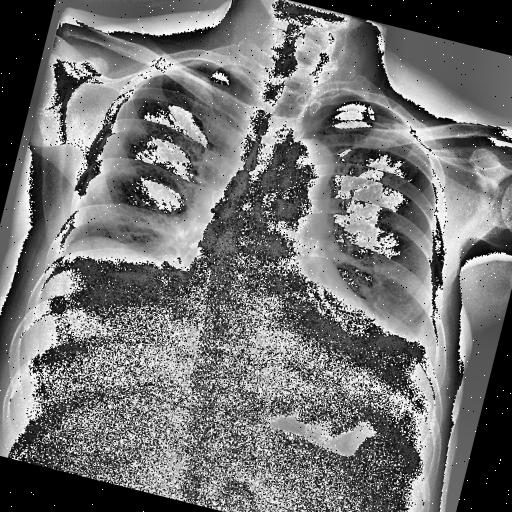0- Aortic enlargement: (267, 128, 338, 201), (266, 130, 337, 190), (275, 127, 339, 187)
10- Pleural effusion: (380, 322, 446, 378), (390, 298, 445, 364), (380, 321, 438, 379)
11- Pleural thickening: (149, 45, 263, 103), (390, 298, 445, 364), (380, 321, 438, 379)
3- Cardiomegaly: (174, 251, 400, 370), (166, 248, 404, 356)
